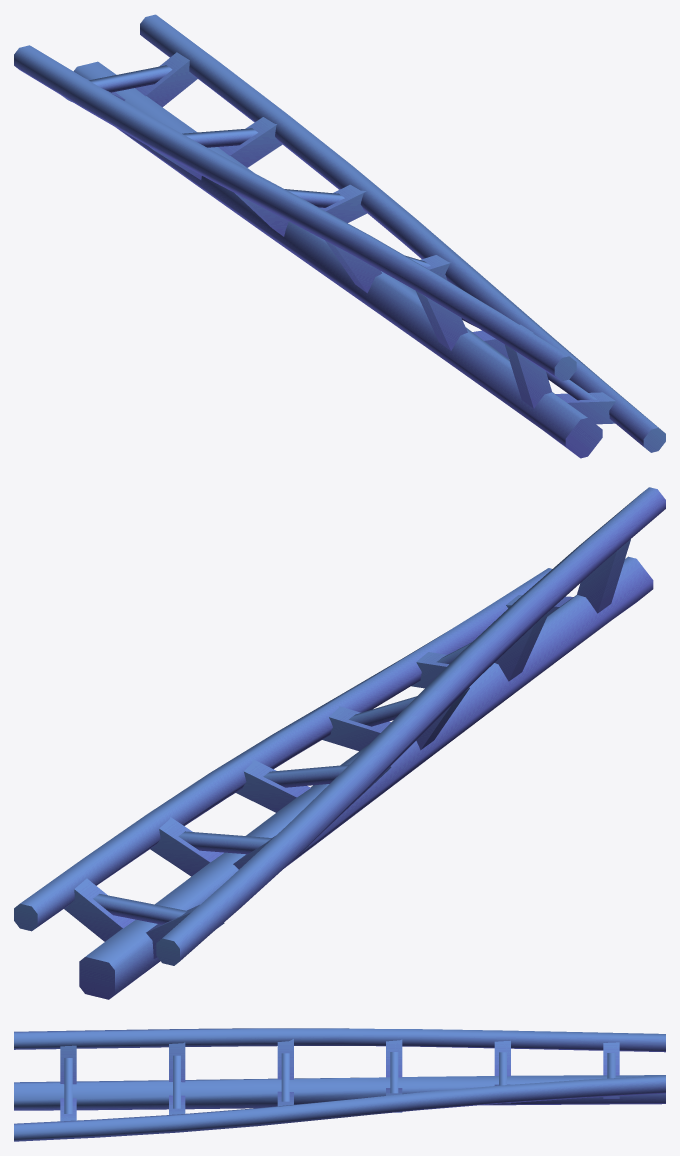
The model's file is coaster-steel-straight-skew-left.glb.
The picture shows the model from 3 angles, top to bottom: view 1: azimuth 30°, elevation 25°; view 2: azimuth 150°, elevation 25°; view 3: azimuth 270°, elevation 25°; orthographic projection. The views are drawn at different scales.
Visible parts, largest first — view 1: coaster-steel-straight-skew-left; view 2: coaster-steel-straight-skew-left; view 3: coaster-steel-straight-skew-left.
Part boxes in pixels (x1,y1,x2,y2): coaster-steel-straight-skew-left: [14, 14, 665, 458]; coaster-steel-straight-skew-left: [14, 487, 665, 999]; coaster-steel-straight-skew-left: [14, 1028, 665, 1141].
Bounding box in the file's own units: 2.38 × 1.59 × 12.
Materials: 1 (1 with a texture image).
